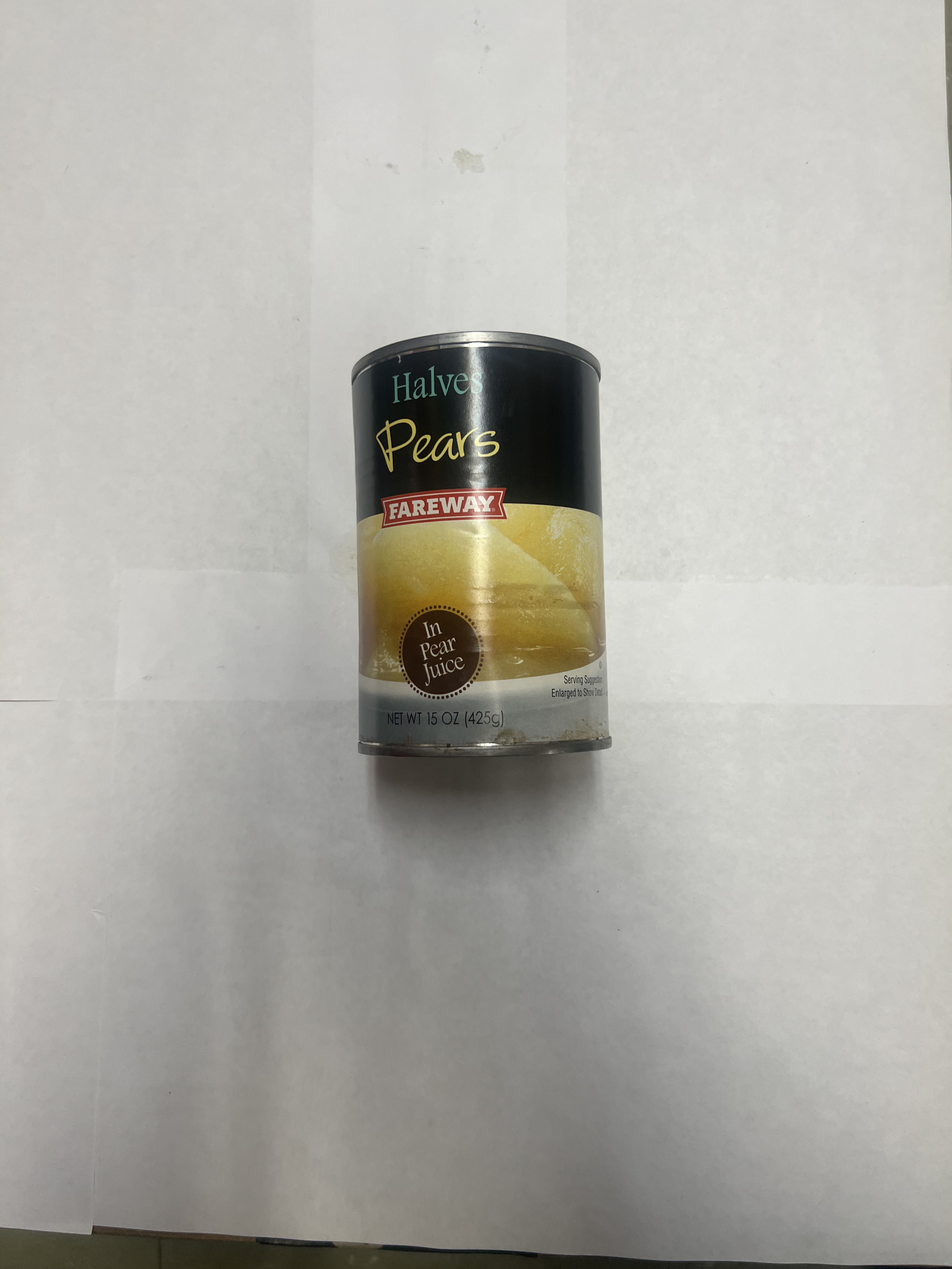packaged: (346, 324, 615, 763)
